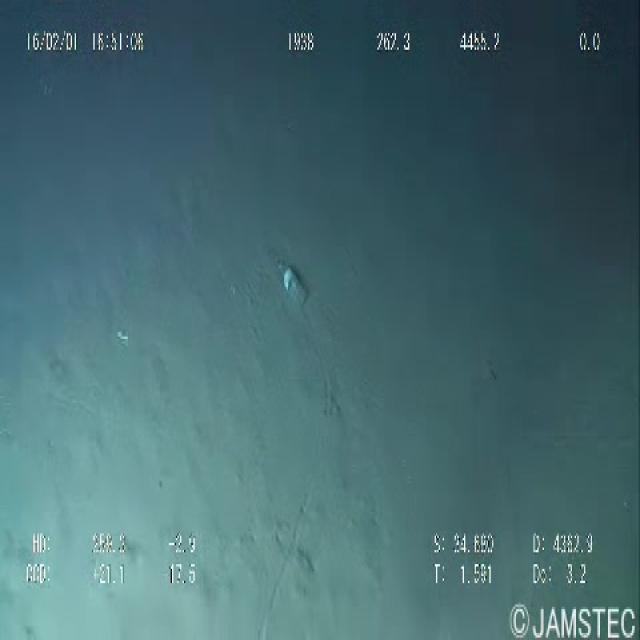plastic: (265, 242, 319, 313)
